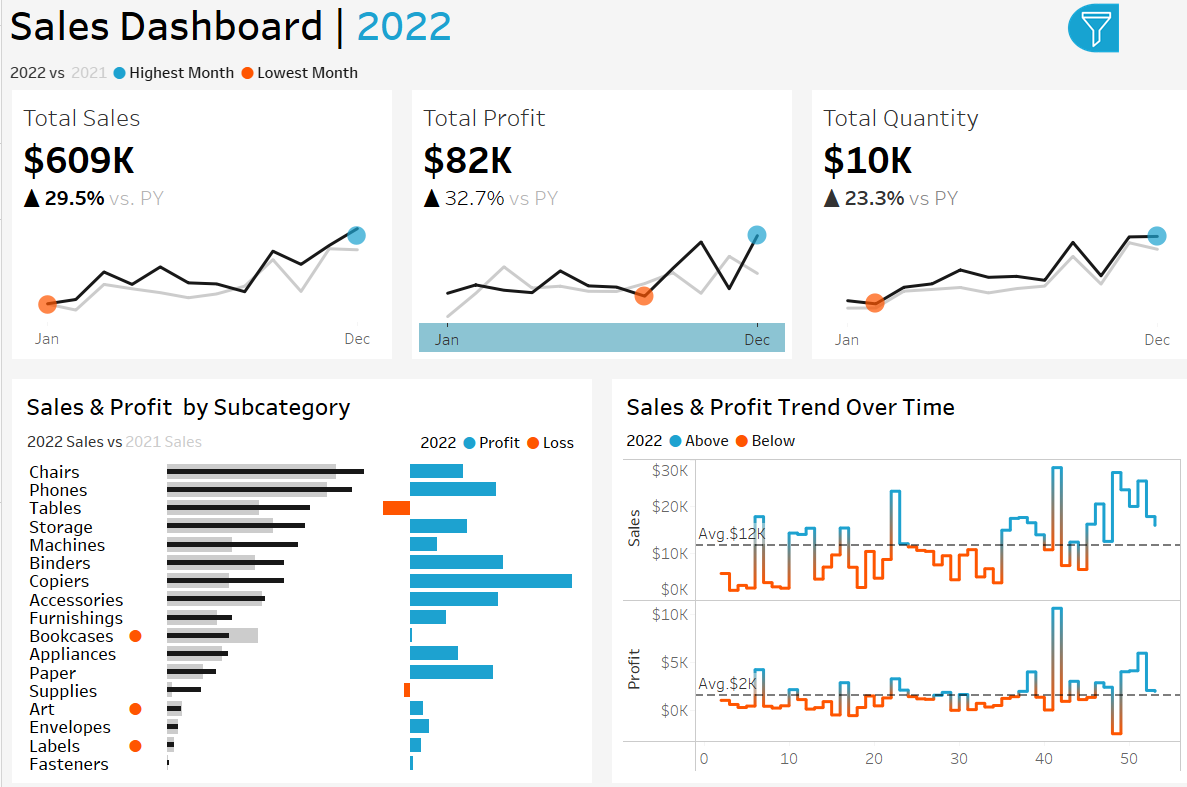

The dashboard page shown, as its layout file describes it:
{"tool":"tableau","page":{"name":"Sales Dashboard ","canvas":[1200,800],"ordinal":0},"visuals":[{"type":"text","box":[0,0,1200,62]},{"type":"blank","box":[963,10,224,81]},{"type":"worksheet","title":"Legend KPI","mark":"Automatic","box":[0,62,1200,35]},{"type":"text","box":[963,91,224,85]},{"type":"worksheet","title":"Total Sales","mark":"Automatic","rows":["Calculation_1194861342339567620"],"cols":["Order Date"],"box":[0,97,400,279]},{"type":"worksheet","title":"Total Profit","mark":"Line","cols":["Order Date"],"box":[400,97,400,279]},{"type":"worksheet","title":"Total Quantity","mark":"Automatic","rows":["Calculation_1194861342558232601"],"cols":["Order Date"],"box":[800,97,400,279]},{"type":"parameter","param":"[Parameters].[Parameter 1]","box":[963,176,224,56]},{"type":"blank","box":[963,232,224,32]},{"type":"text","box":[963,264,224,33]},{"type":"filter","title":"Total Sales","param":"[federated.0rrt5hi1ji113913o3vsg00zjdsm].[none:Category:nk]","box":[963,297,224,61]},{"type":"filter","title":"Total Sales","param":"[federated.0rrt5hi1ji113913o3vsg00zjdsm].[none:Sub-Category:nk]","box":[963,358,224,92]},{"type":"text","box":[17,393,566,40]},{"type":"text","box":[617,393,566,40]},{"type":"worksheet","title":"Legend Subcategory","mark":"Automatic","box":[17,433,394,32]},{"type":"text","box":[411,433,172,32]},{"type":"text","box":[617,433,566,29]},{"type":"blank","box":[963,450,224,40]},{"type":"worksheet","title":"Weekly Trends","mark":"Automatic","rows":["Calculation_1194861342332461056","Calculation_1194861342531403787"],"cols":["Order Date"],"box":[617,462,566,321]},{"type":"worksheet","title":"Subcategory Comparison","mark":"Bar","rows":["Sub-Category","Calculation_1194861342616453148"],"cols":["CY Sales (copy)_1194861342332915713","Calculation_1194861342332461056","Calculation_1194861342531403787"],"box":[17,465,566,318]},{"type":"text","box":[963,490,224,33]},{"type":"filter","title":"Total Sales","param":"[federated.0rrt5hi1ji113913o3vsg00zjdsm].[none:Region:nk]","box":[963,523,224,61]},{"type":"filter","title":"Total Sales","param":"[federated.0rrt5hi1ji113913o3vsg00zjdsm].[none:State:nk]","box":[963,584,224,61]},{"type":"filter","title":"Total Sales","param":"[federated.0rrt5hi1ji113913o3vsg00zjdsm].[none:City:nk]","box":[963,645,224,61]}]}

Visuals, with their boxes in screenshot pixels (x1, y1, x2, y2), scaled from the page's 1200x800 canvas onto the 1187x787 screenshot:
text: locate(0, 0, 1186, 61)
blank: locate(953, 10, 1174, 90)
"Legend KPI" worksheet: locate(0, 61, 1186, 95)
text: locate(953, 90, 1174, 173)
"Total Sales" worksheet: locate(0, 95, 396, 370)
"Total Profit" worksheet (Line marks): locate(396, 95, 791, 370)
"Total Quantity" worksheet: locate(791, 95, 1186, 370)
parameter: locate(953, 173, 1174, 228)
blank: locate(953, 228, 1174, 260)
text: locate(953, 260, 1174, 292)
"Total Sales" filter: locate(953, 292, 1174, 352)
"Total Sales" filter: locate(953, 352, 1174, 443)
text: locate(17, 387, 577, 426)
text: locate(610, 387, 1170, 426)
"Legend Subcategory" worksheet: locate(17, 426, 407, 457)
text: locate(407, 426, 577, 457)
text: locate(610, 426, 1170, 454)
blank: locate(953, 443, 1174, 482)
"Weekly Trends" worksheet: locate(610, 454, 1170, 770)
"Subcategory Comparison" worksheet (Bar marks): locate(17, 457, 577, 770)
text: locate(953, 482, 1174, 515)
"Total Sales" filter: locate(953, 515, 1174, 575)
"Total Sales" filter: locate(953, 575, 1174, 635)
"Total Sales" filter: locate(953, 635, 1174, 695)
